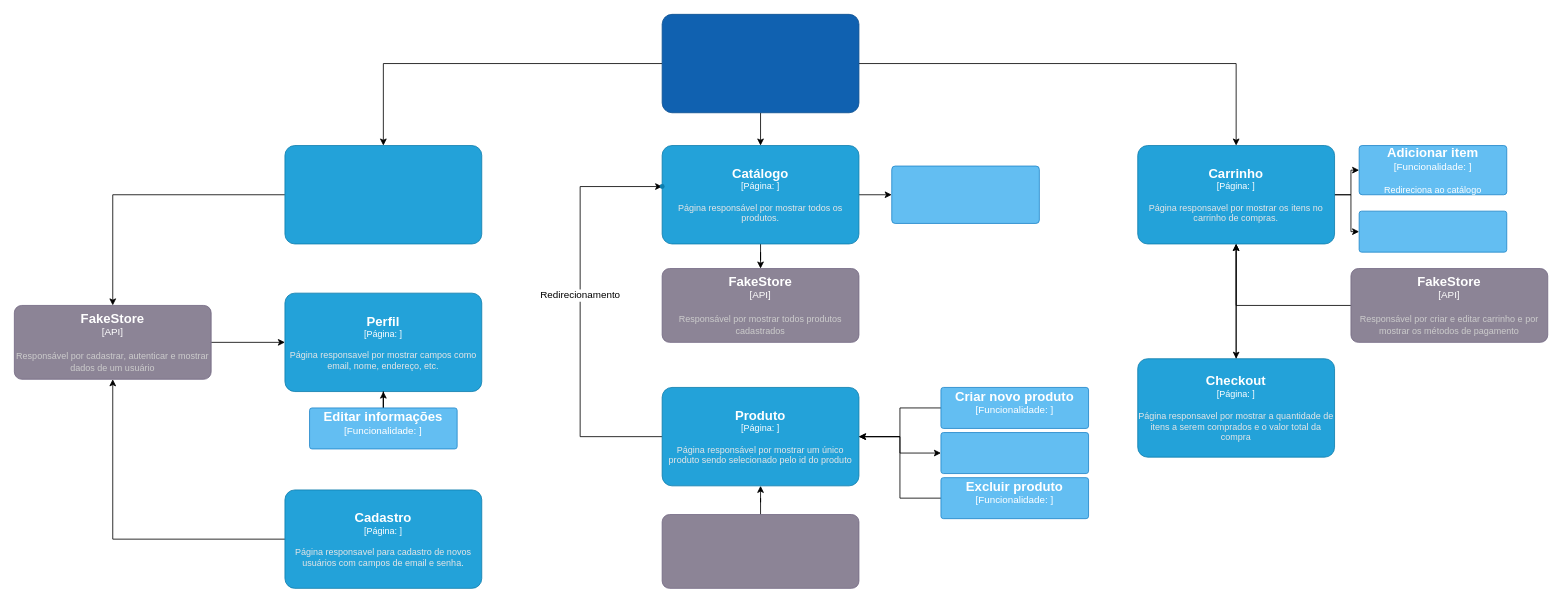
This 1562x603 diagram has some shape labels left out. The shapes that lost their labels are listed below. From the top down, each one's box as (x1, y1, x2, y2) in pixels, then its label:
(661, 14, 859, 113): Front-end [%c4Type%] Funcionalidades presentes no front-end
(284, 145, 482, 244): Login [Página: ] Página com campos de email e login para entrar no site.
(891, 165, 1039, 223): Catégoria [Funcionalidade: ] Buscar produto por catégoria
(1358, 210, 1507, 252): Remover item [Funcionalidade: ]
(940, 432, 1089, 474): Editar produto [Funcionalidade: ]
(661, 514, 859, 588): FakeStore [API] Responsável por buscar um produto específico
